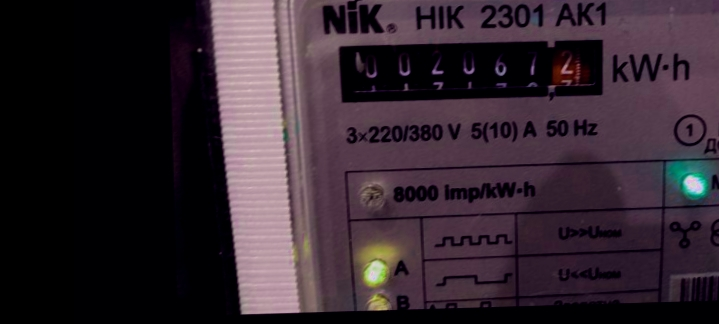0: (459, 46, 478, 75), (363, 51, 381, 81), (396, 48, 414, 78)
2: (558, 46, 577, 76), (429, 47, 447, 77)
6: (493, 48, 511, 78)
7: (525, 47, 542, 78)
screen: (326, 25, 620, 116)
